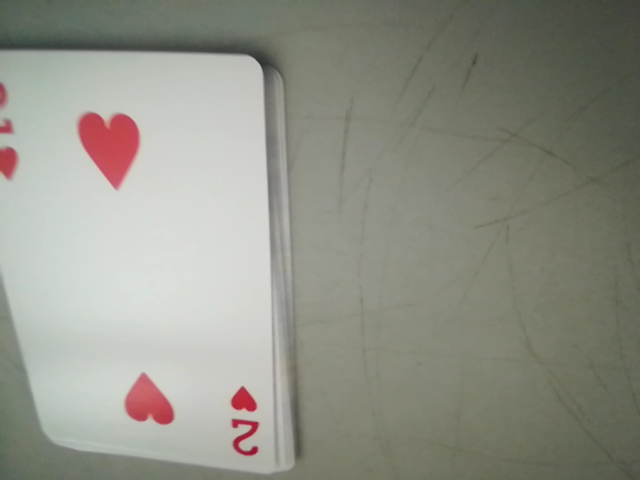hx 2: (226, 388, 272, 467)
